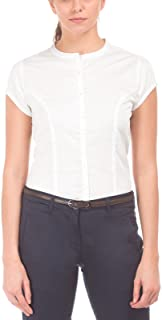shirt: (5, 41, 156, 201)
